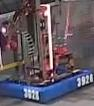blue_number: (21, 87, 42, 102), (75, 71, 94, 87)
